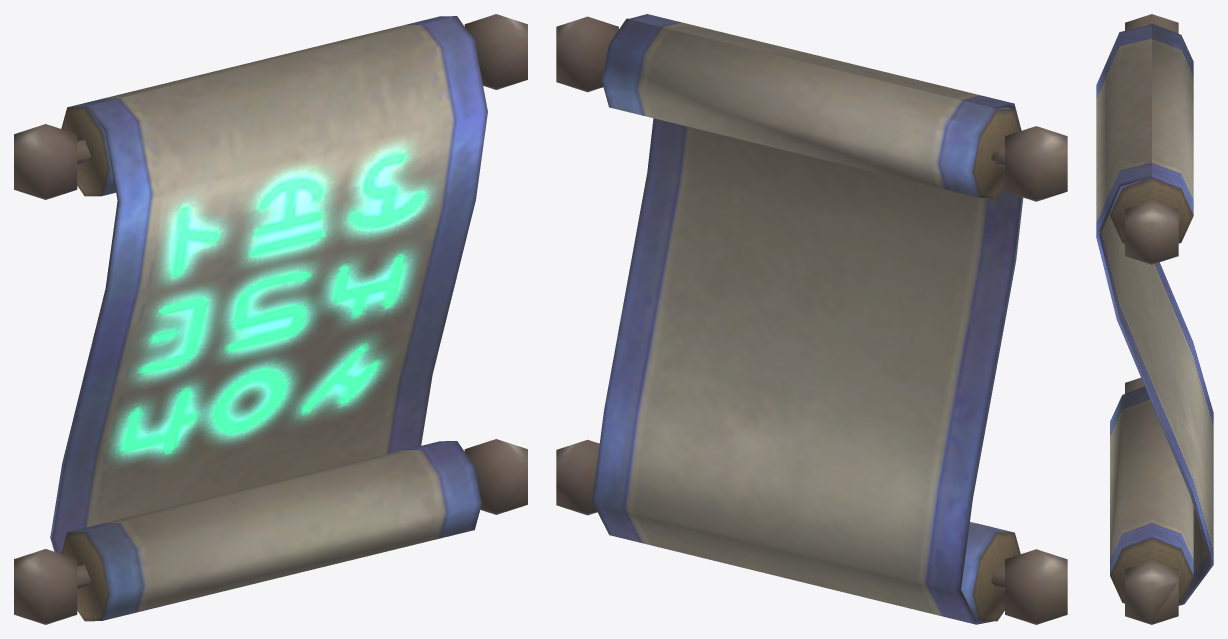
Rendered from Scroll.FBX.
The picture shows the model from 3 angles, left to right: view 1: azimuth 30°, elevation 25°; view 2: azimuth 150°, elevation 25°; view 3: azimuth 270°, elevation 25°; orthographic projection. The views are drawn at different scales.
Visible parts, largest first — view 1: Scroll_SM; view 2: Scroll_SM; view 3: Scroll_SM.
Part boxes in pixels (x1,y1,x2,y2): Scroll_SM: [14, 14, 527, 624]; Scroll_SM: [556, 14, 1067, 624]; Scroll_SM: [1096, 14, 1213, 624].
Size of the model in its own units: 9.42 by 2.2 by 9.02.
